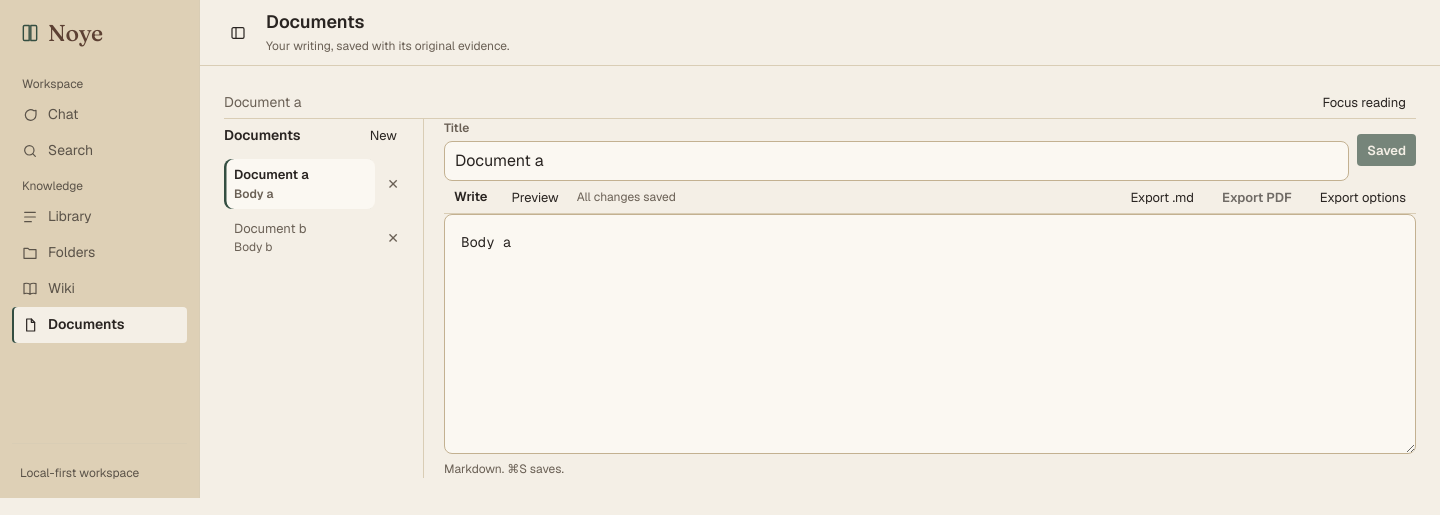
Test: settles the legacy saved baseline for title
The image size is (1440, 515).
Check: the text box named "Document content" is shown, box top-left (444, 214), bottom-right (1416, 454)
Clear the field labelled "Title". click: x=897, y=161
box: top-left (444, 141), bottom-right (1349, 181)
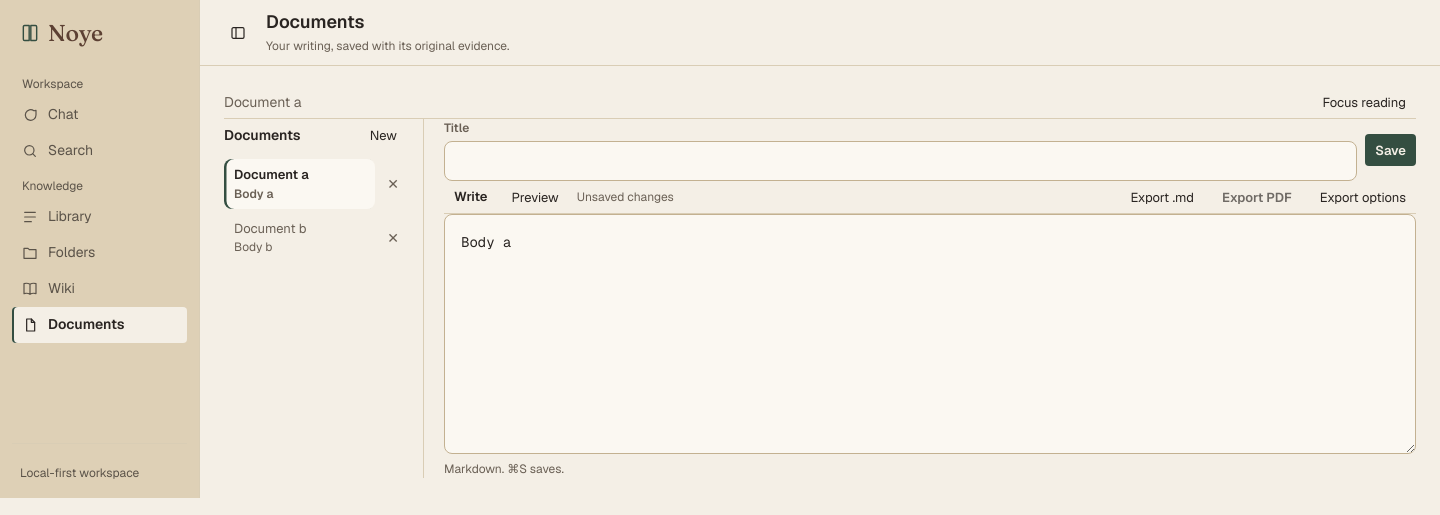
Click the button "Save". click: x=1391, y=150
box: top-left (1365, 134), bottom-right (1416, 166)
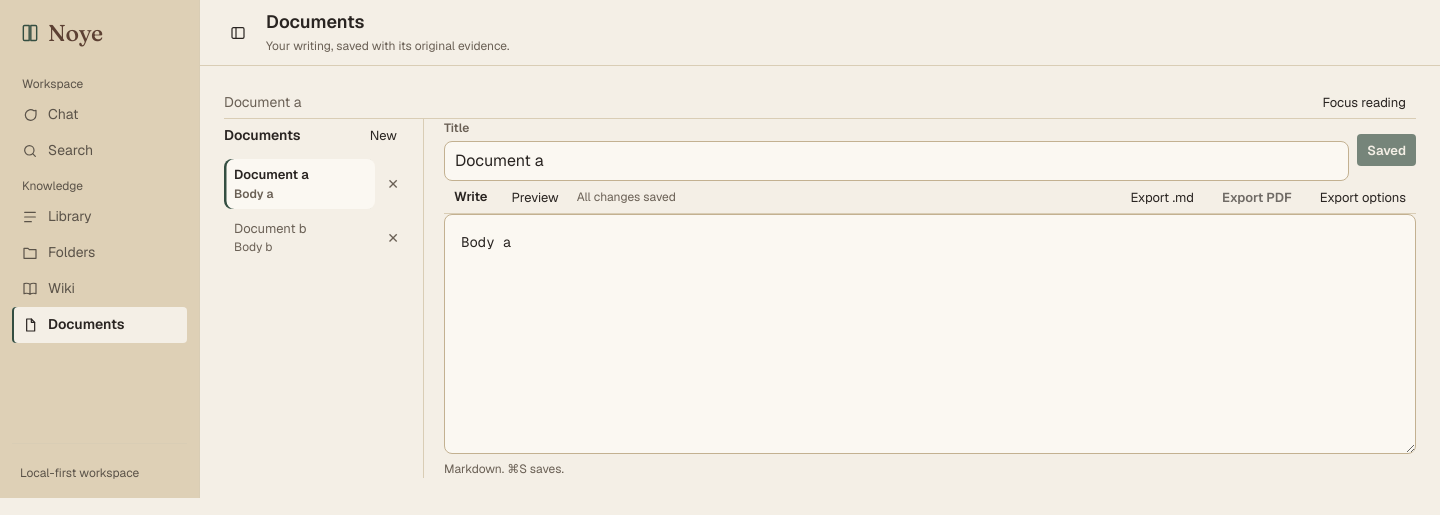
Check: the button "Saved" is shown, box top-left (1357, 134), bottom-right (1416, 166)
Check: the field labelled "Title" holds "Document a", box top-left (444, 141), bottom-right (1349, 181)
Check: the text "Unsaved changes" is gone
